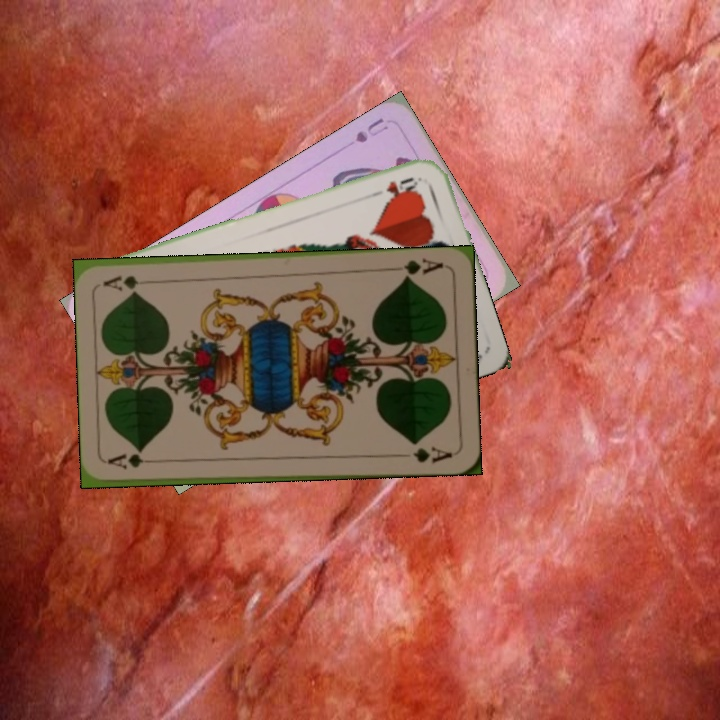GA: (389, 254, 446, 282), (105, 450, 164, 472)
HO: (367, 172, 425, 202)
SU: (351, 114, 391, 146)
